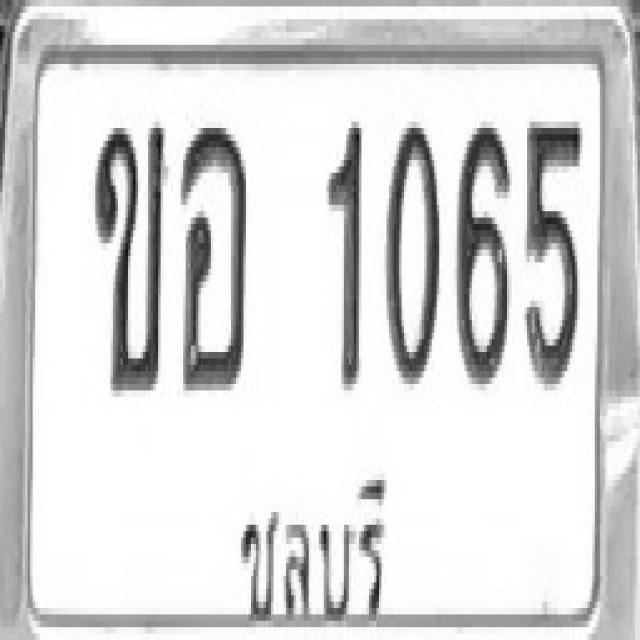0: (384, 112, 439, 387)
1: (325, 116, 363, 390)
11KhorKhai: (93, 119, 166, 394)
5: (523, 112, 581, 387)
52OrAng: (180, 122, 248, 390)
6: (454, 119, 510, 388)
Chonburi: (227, 476, 401, 630)
